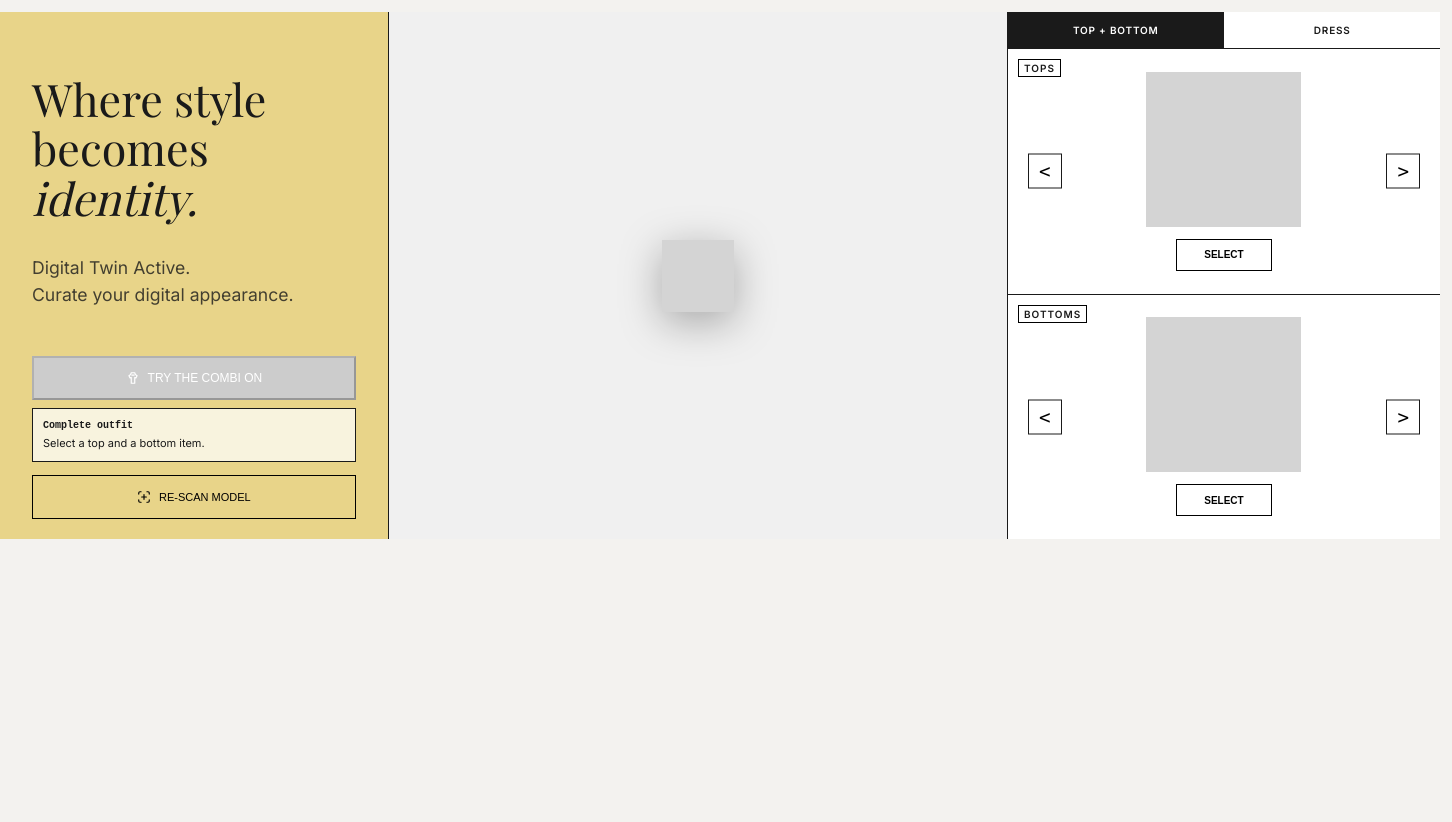
Scenario: Wardrobe states › generates a look after required assets are selected
Click the button "SELECT" below "TOPS".
click(1224, 255)  # box [1176,239,1272,271]
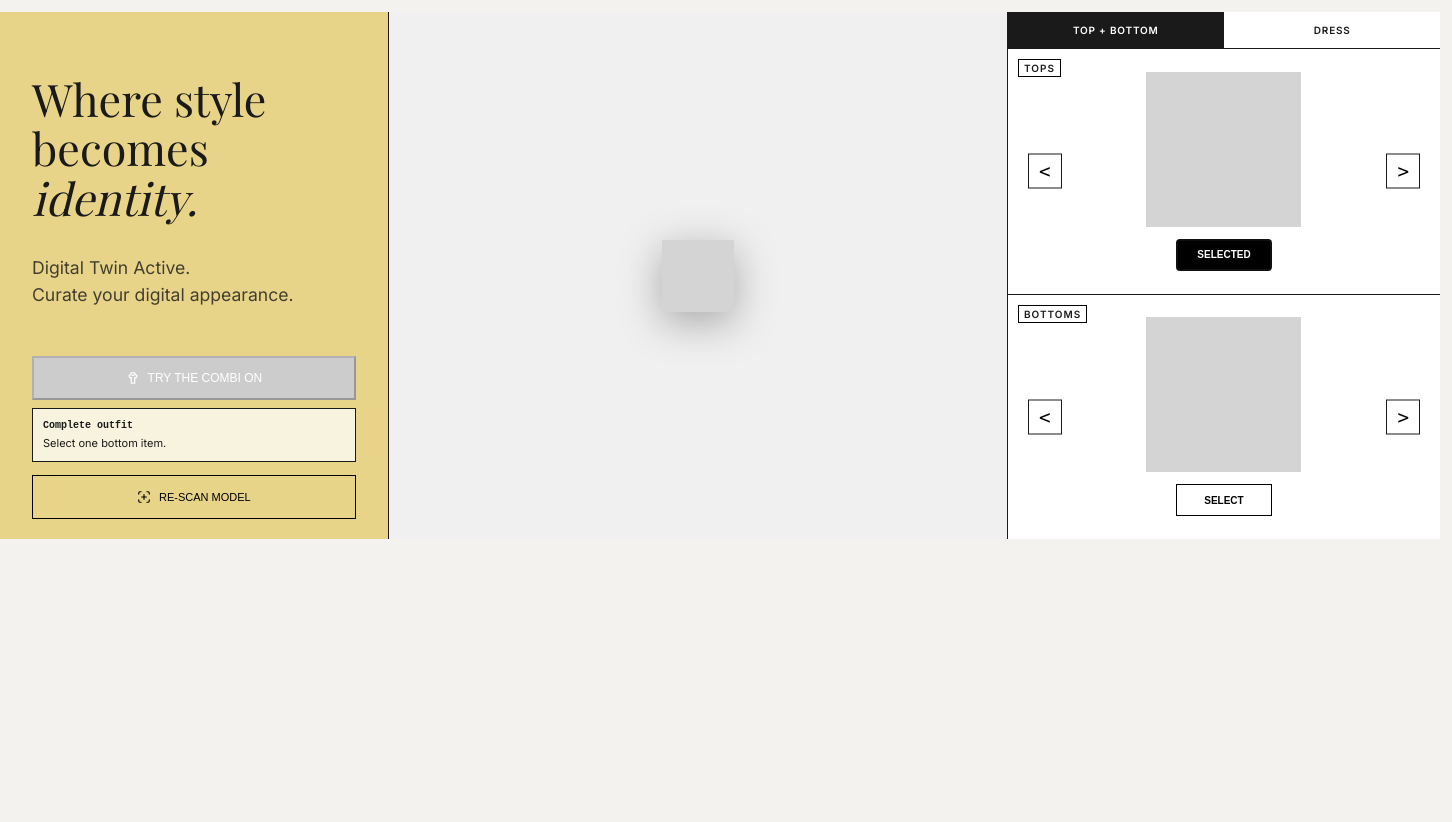
Click the button "SELECT".
click(1224, 500)  # box [1176,484,1272,516]
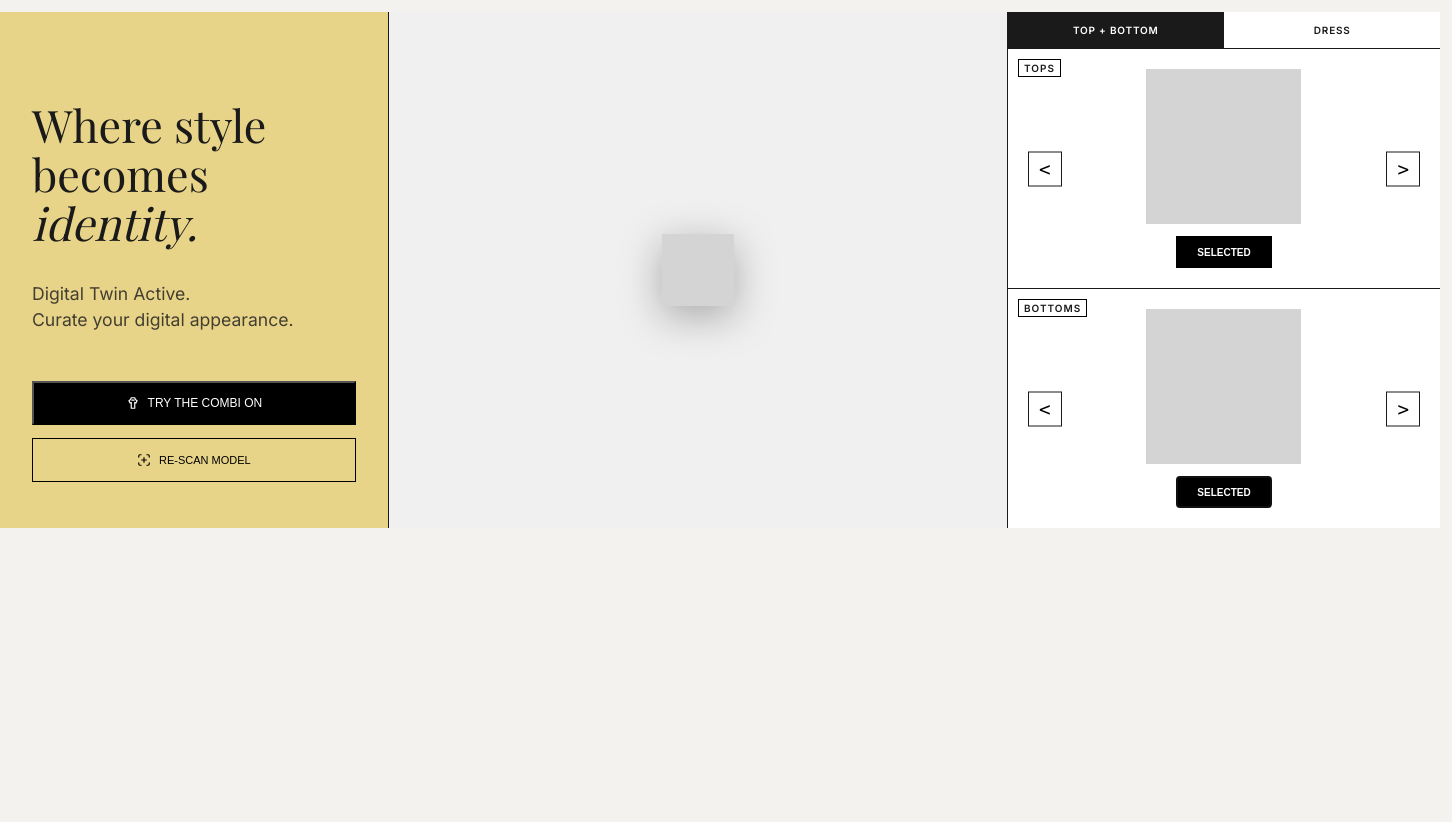
Click the button "TRY THE COMBI ON".
click(194, 403)  # box [32,381,356,425]
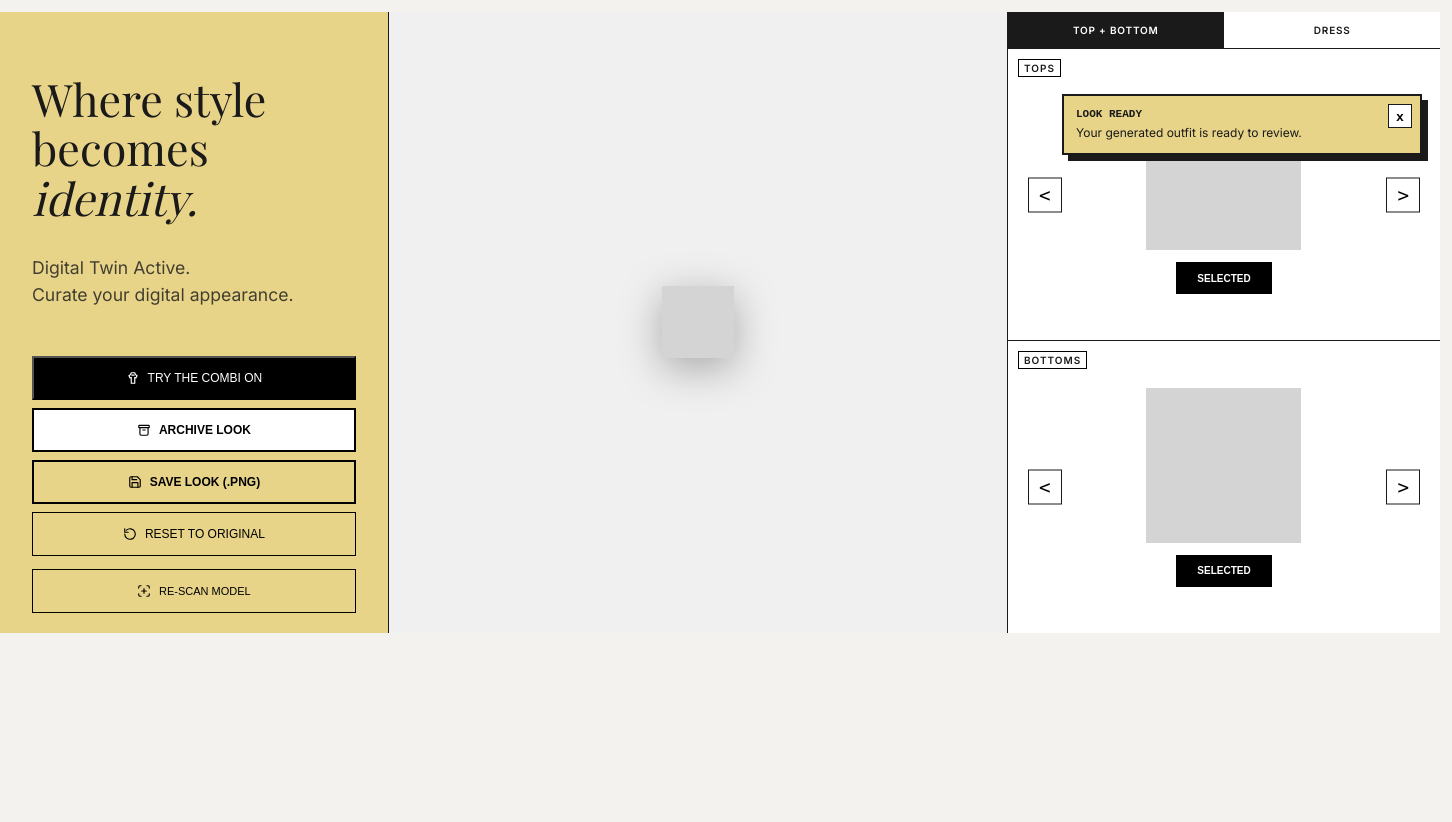
Result: the text "LOOK READY" is shown at [1076,108,1142,120]
